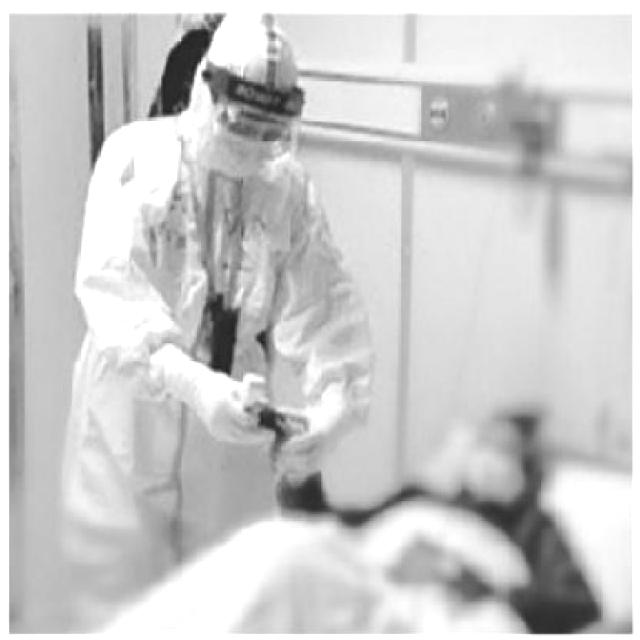face_mask: (212, 112, 276, 190)
hand_glove: (184, 368, 274, 443), (277, 397, 338, 477)
person: (62, 9, 389, 556)
